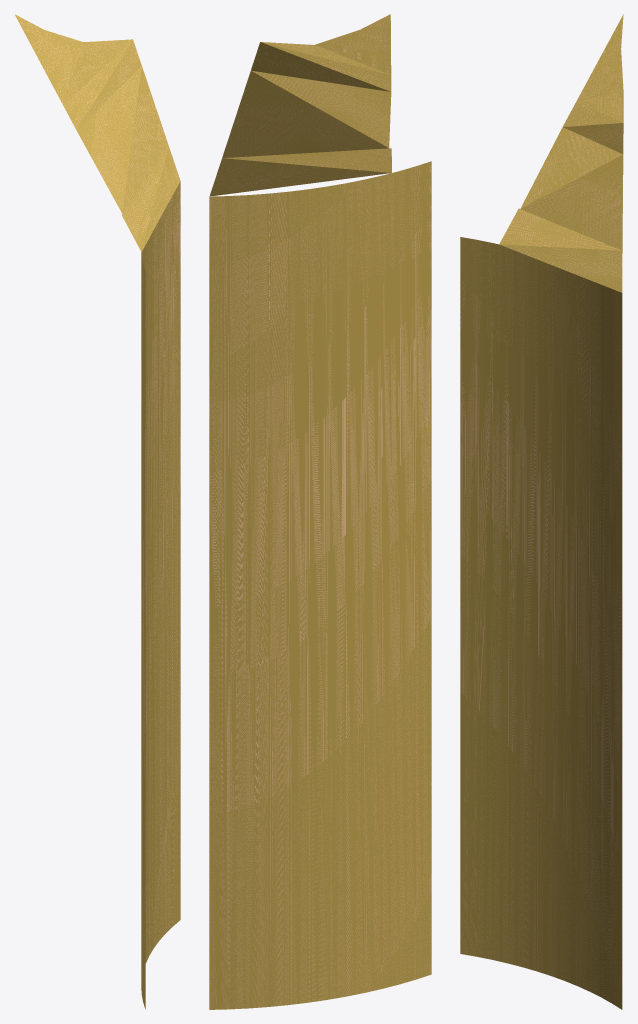
Rendered from original-68.obj.
The picture shows the model from 3 angles, left to right: view 1: azimuth 30°, elevation 25°; view 2: azimuth 150°, elevation 25°; view 3: azimuth 270°, elevation 25°; orthographic projection. The views are drawn at different scales.
Visible parts, largest first — view 1: mesh3/mesh3-geometry/material_4/component_1#mesh3-geometry; view 2: mesh3/mesh3-geometry/material_4/component_1#mesh3-geometry; view 3: mesh3/mesh3-geometry/material_4/component_1#mesh3-geometry.
Boxes of the visible parts, x1,y1,x2,y2 form: mesh3/mesh3-geometry/material_4/component_1#mesh3-geometry: (15, 14, 180, 1009); mesh3/mesh3-geometry/material_4/component_1#mesh3-geometry: (209, 14, 431, 1009); mesh3/mesh3-geometry/material_4/component_1#mesh3-geometry: (460, 14, 623, 1009).
Bounding box in the file's own units: 0.1497 × 0.818 × 0.1318.
